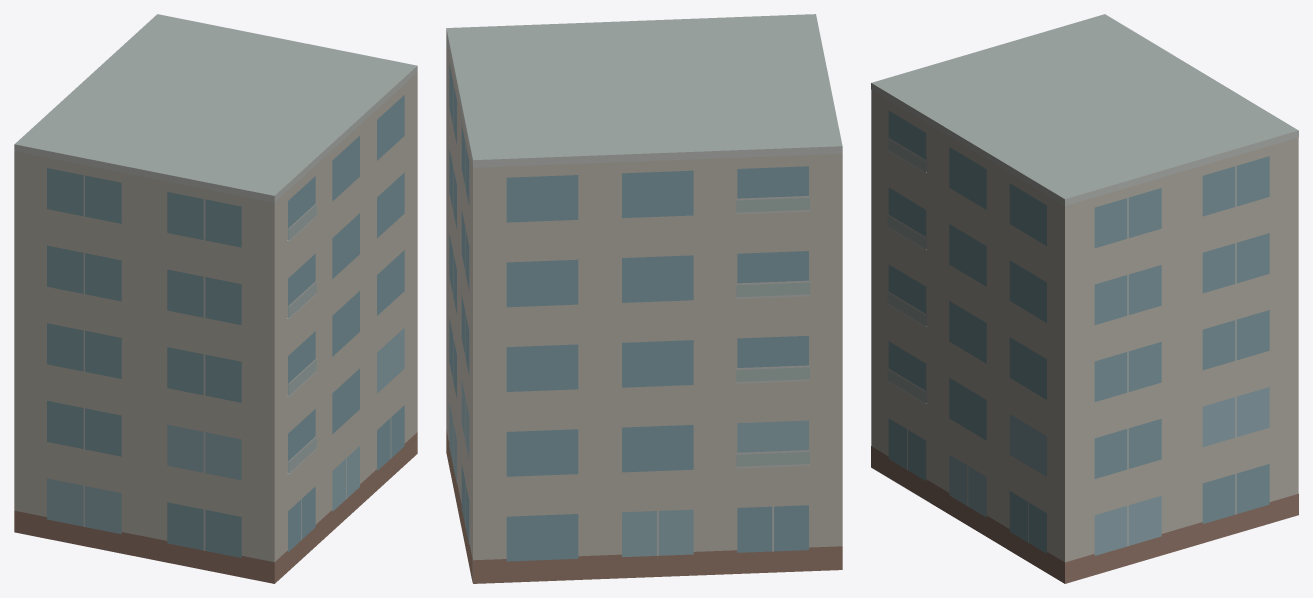
Rendered from survey-upis-32506751.glb.
3 renders of one model, left to right at view 1: azimuth 30°, elevation 25°; view 2: azimuth 150°, elevation 25°; view 3: azimuth 270°, elevation 25°, orthographic. The views are drawn at different scales.
Visible parts, largest first — view 1: survey-upis-32506751.tmp; view 2: survey-upis-32506751.tmp; view 3: survey-upis-32506751.tmp.
Boxes of the visible parts, x1,y1,x2,y2 form: survey-upis-32506751.tmp: [14, 14, 417, 583]; survey-upis-32506751.tmp: [446, 14, 842, 583]; survey-upis-32506751.tmp: [871, 14, 1298, 583].
Size of the model in its own units: 14.21 by 13.75 by 13.86.
